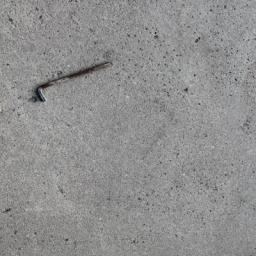FOD: (34, 62, 113, 103)
